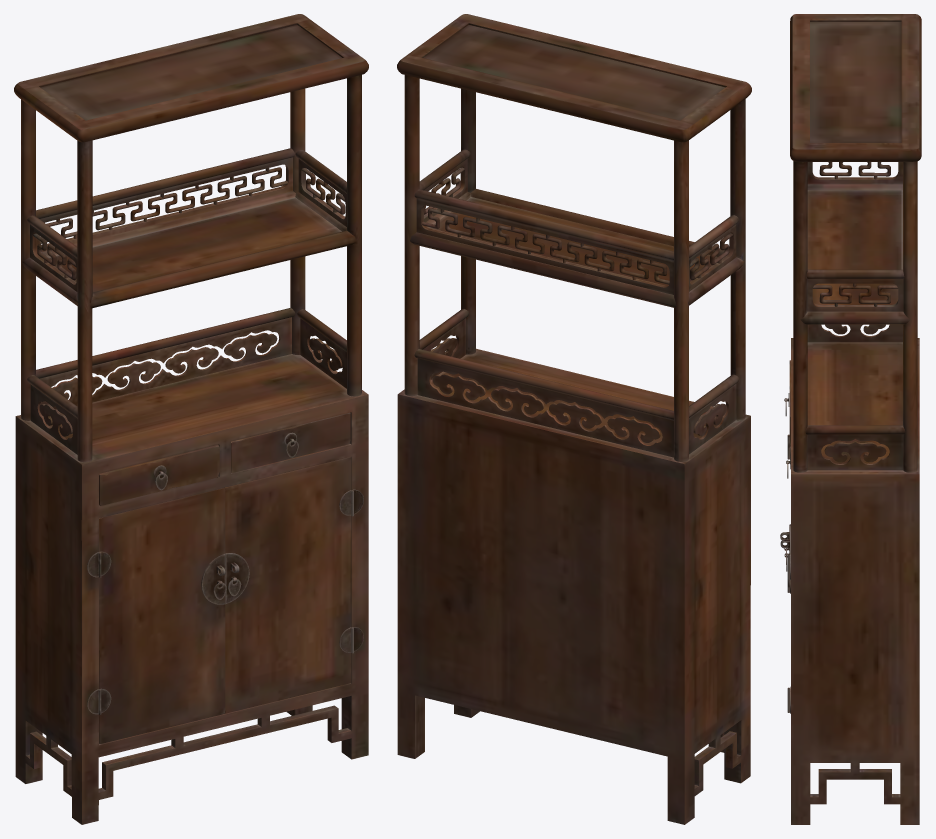
File: chinese_cabinet.glb
The picture shows the model from 3 angles, left to right: view 1: azimuth 30°, elevation 25°; view 2: azimuth 150°, elevation 25°; view 3: azimuth 270°, elevation 25°; orthographic projection. The views are drawn at different scales.
Parts seen in each view (by area): view 1: Cube.013, chinese_cabinet; view 2: Cube.013; view 3: Cube.013, chinese_cabinet.
Part boxes in pixels (box(x1,y1,x2,y2)): Cube.013: box(14, 14, 368, 824); chinese_cabinet: box(98, 412, 353, 743); Cube.013: box(397, 14, 751, 824); Cube.013: box(790, 14, 921, 824); chinese_cabinet: box(780, 360, 790, 712).
Bounding box in the file's own units: 1.26 × 2.87 × 0.5452.
1 material, 1 textured.
